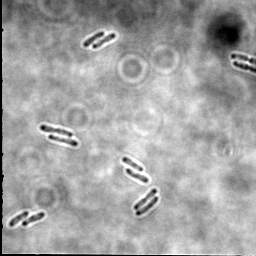Dividing: (133, 187, 159, 212), (39, 123, 74, 139), (92, 32, 118, 50), (229, 51, 255, 66), (232, 60, 255, 75)
Rod: (135, 195, 160, 217), (47, 134, 79, 148), (125, 168, 151, 185), (122, 155, 145, 173), (22, 210, 46, 227), (8, 210, 30, 228), (83, 30, 105, 48)
